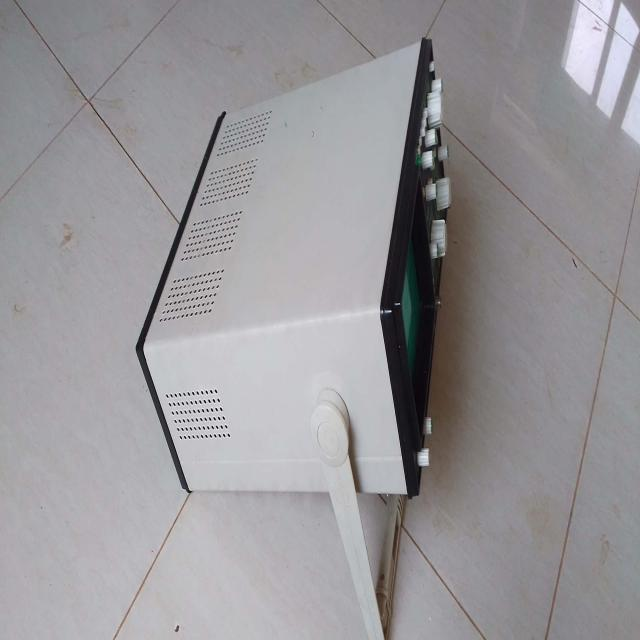Cathode Ray Oscilloscope: (136, 47, 452, 533)
